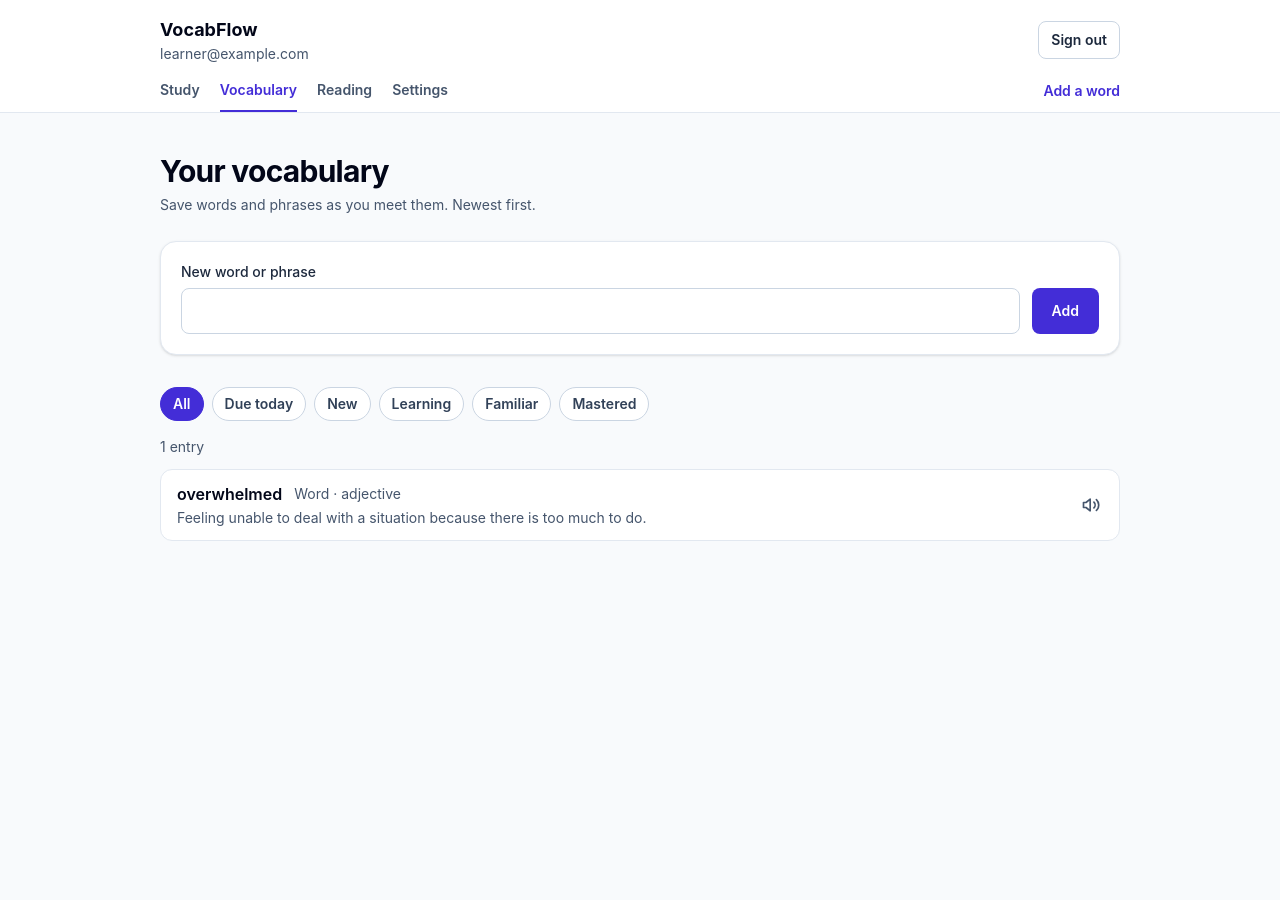
Test: opens an entry from the list and shows its full details
Step 1. Click the link "overwhelmed" → point(230, 494), box [177,484,646,526]
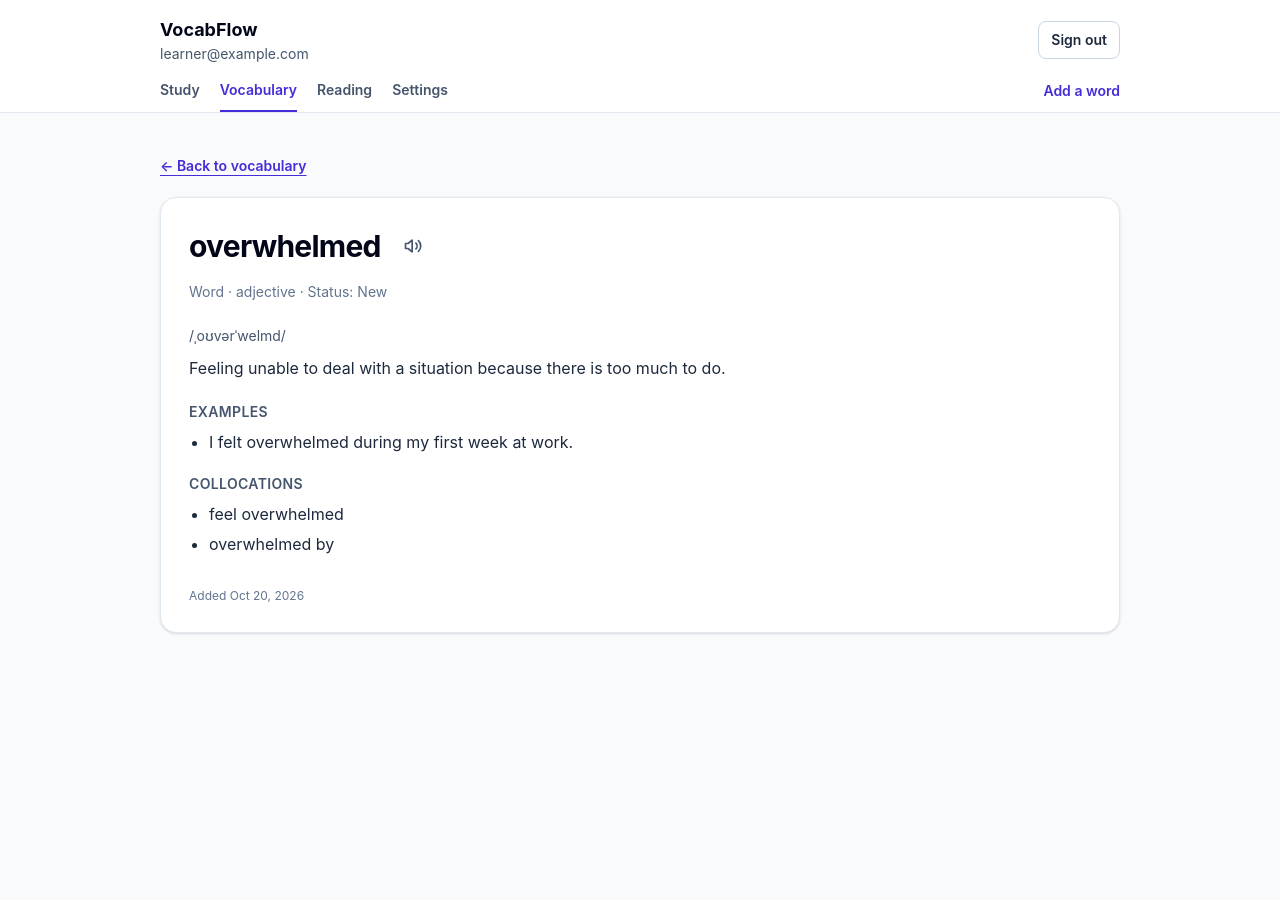
Expected: the heading "overwhelmed" is shown, [189,228,381,264]
Expected: the text "/ˌoʊvərˈwelmd/" is shown, [189,327,286,344]
Expected: the list item "feel overwhelmed" is shown, [209,504,344,524]
Step 2. Click the link "← Back to vocabulary" → point(168, 166), box [160,157,306,174]
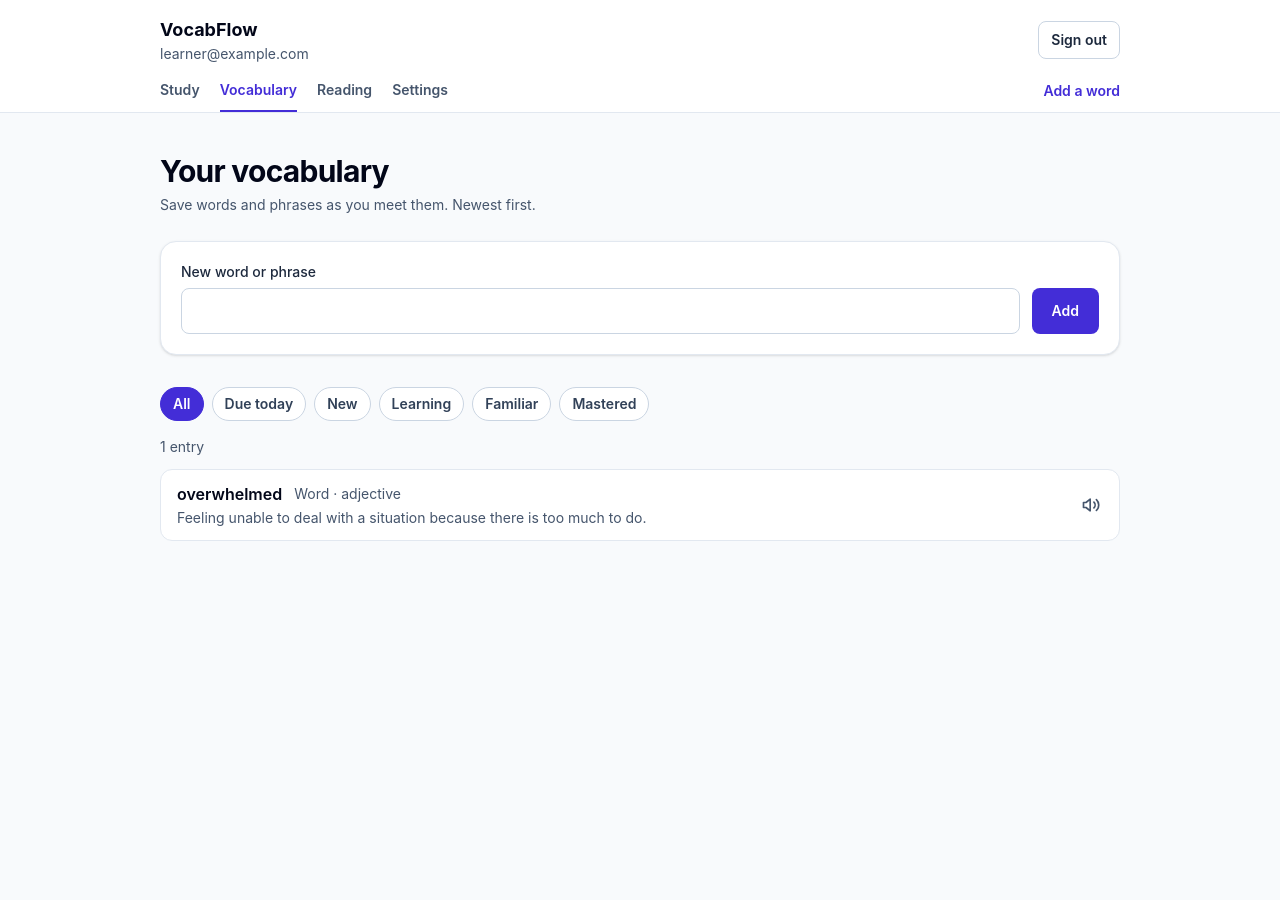
Expected: the heading "Your vocabulary" is shown, [160,153,389,189]
